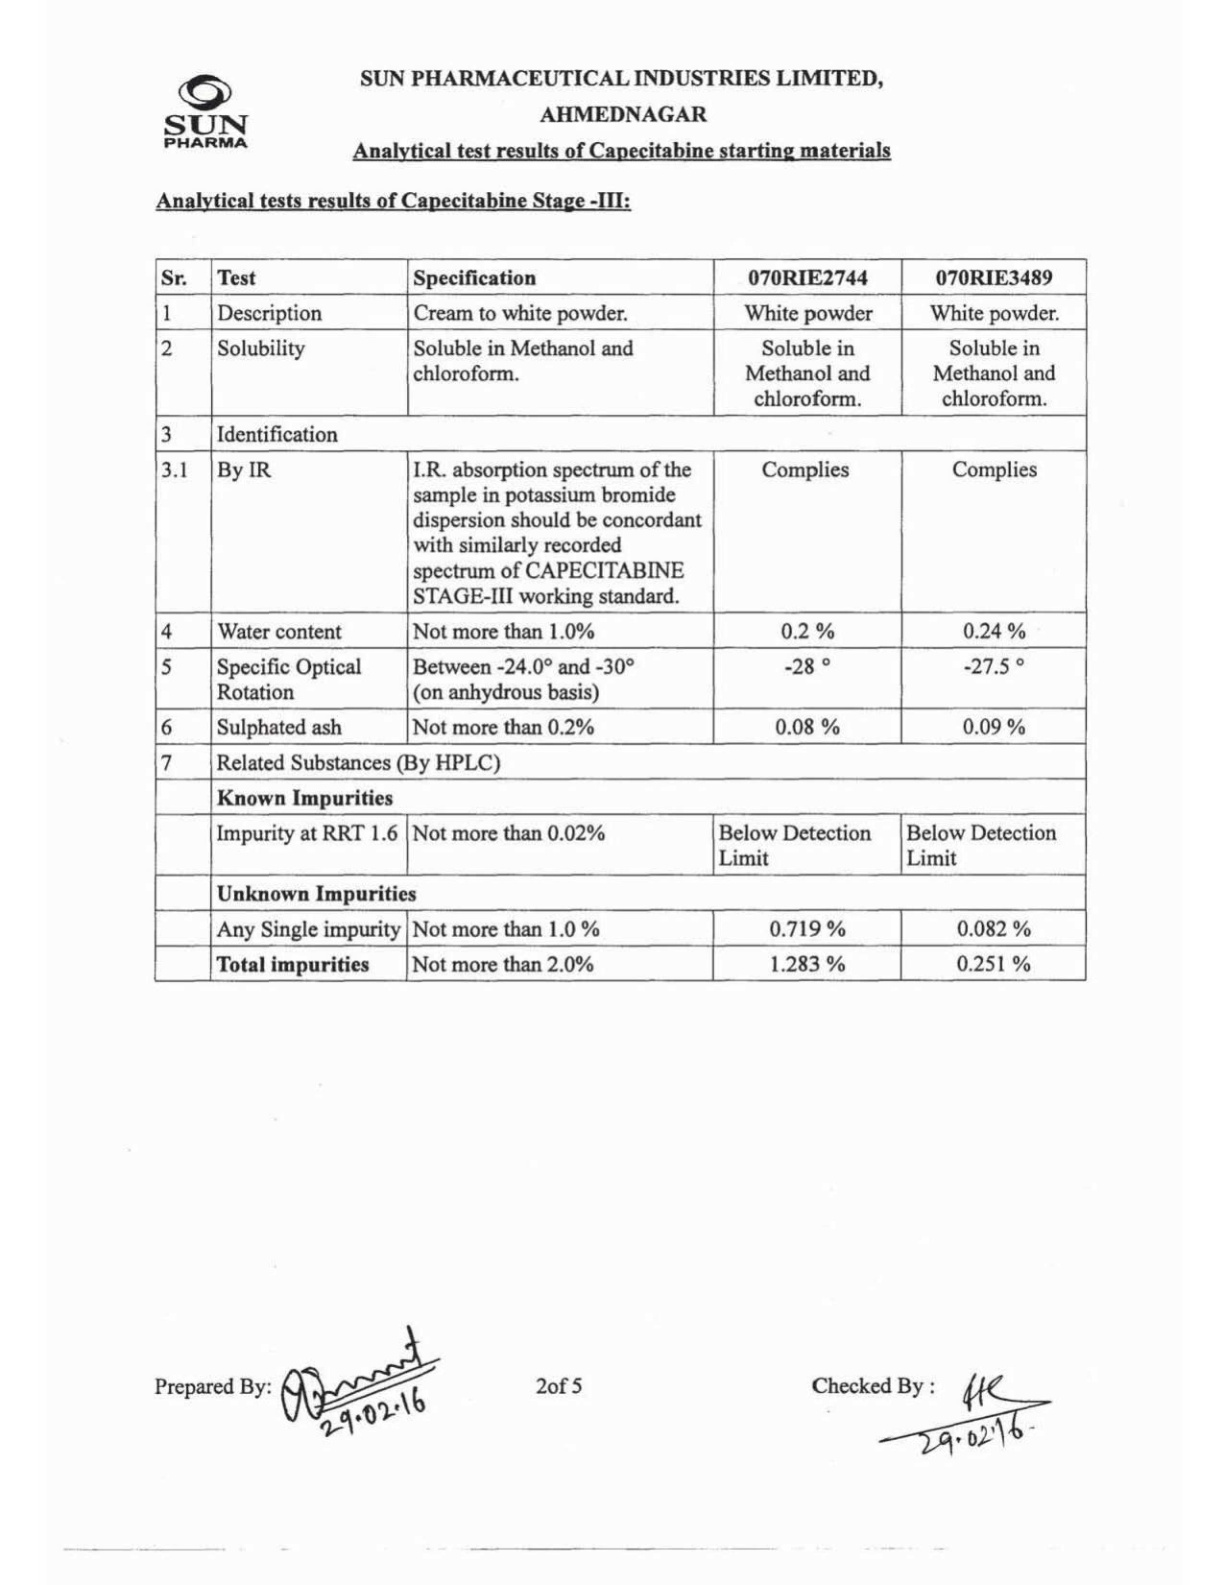merged_cells: (154, 255, 1089, 982)
